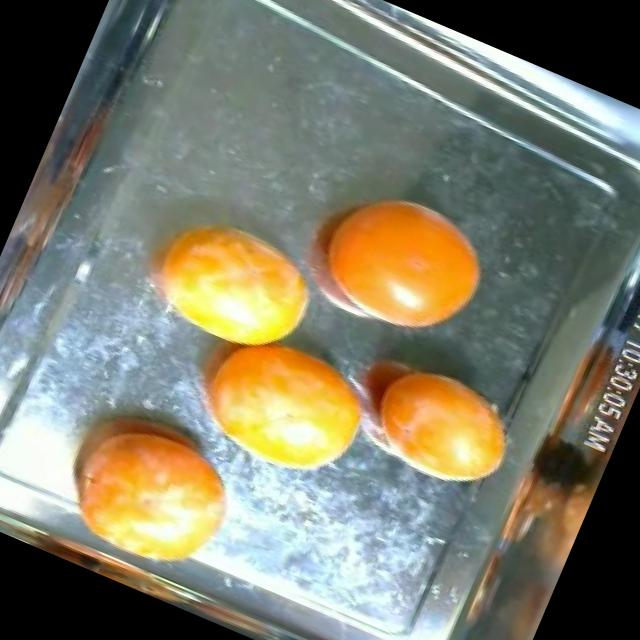Fruit: (22, 372, 270, 592), (164, 297, 402, 505), (283, 154, 515, 362), (117, 184, 346, 379), (343, 336, 542, 514)
